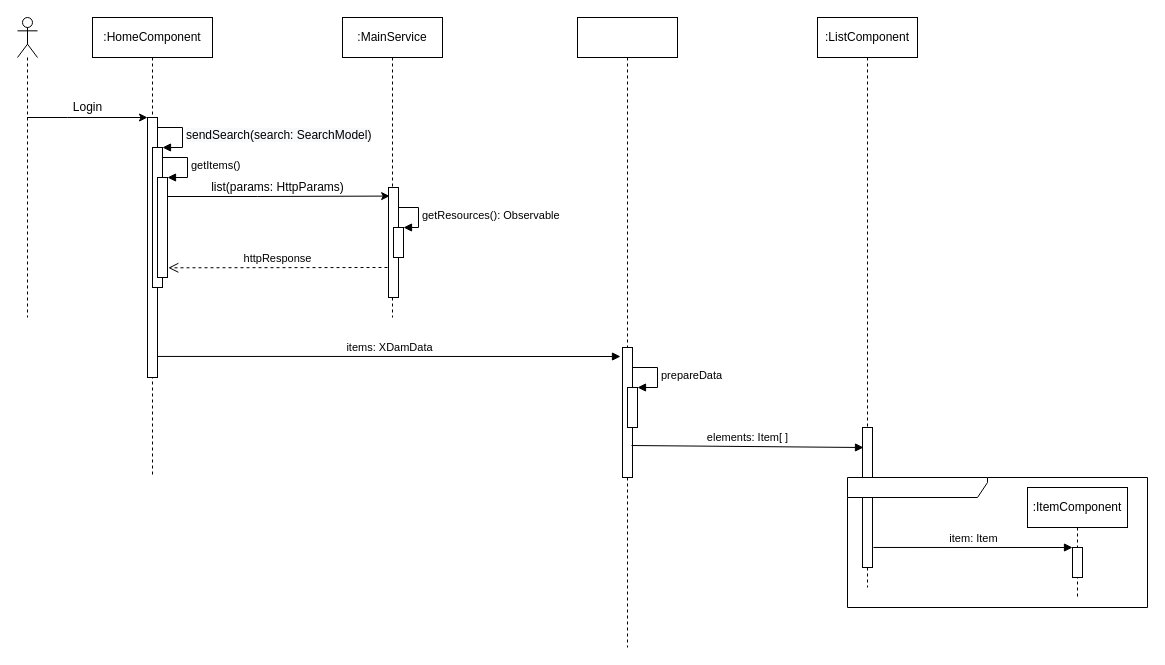
Some shapes in this 1165 by 665 pixel diagram are drawn without their labels. Each missing label, with the centre of its shape:
:DamComponent: point 627,332
loop [element of elmenets]: point 997,542
